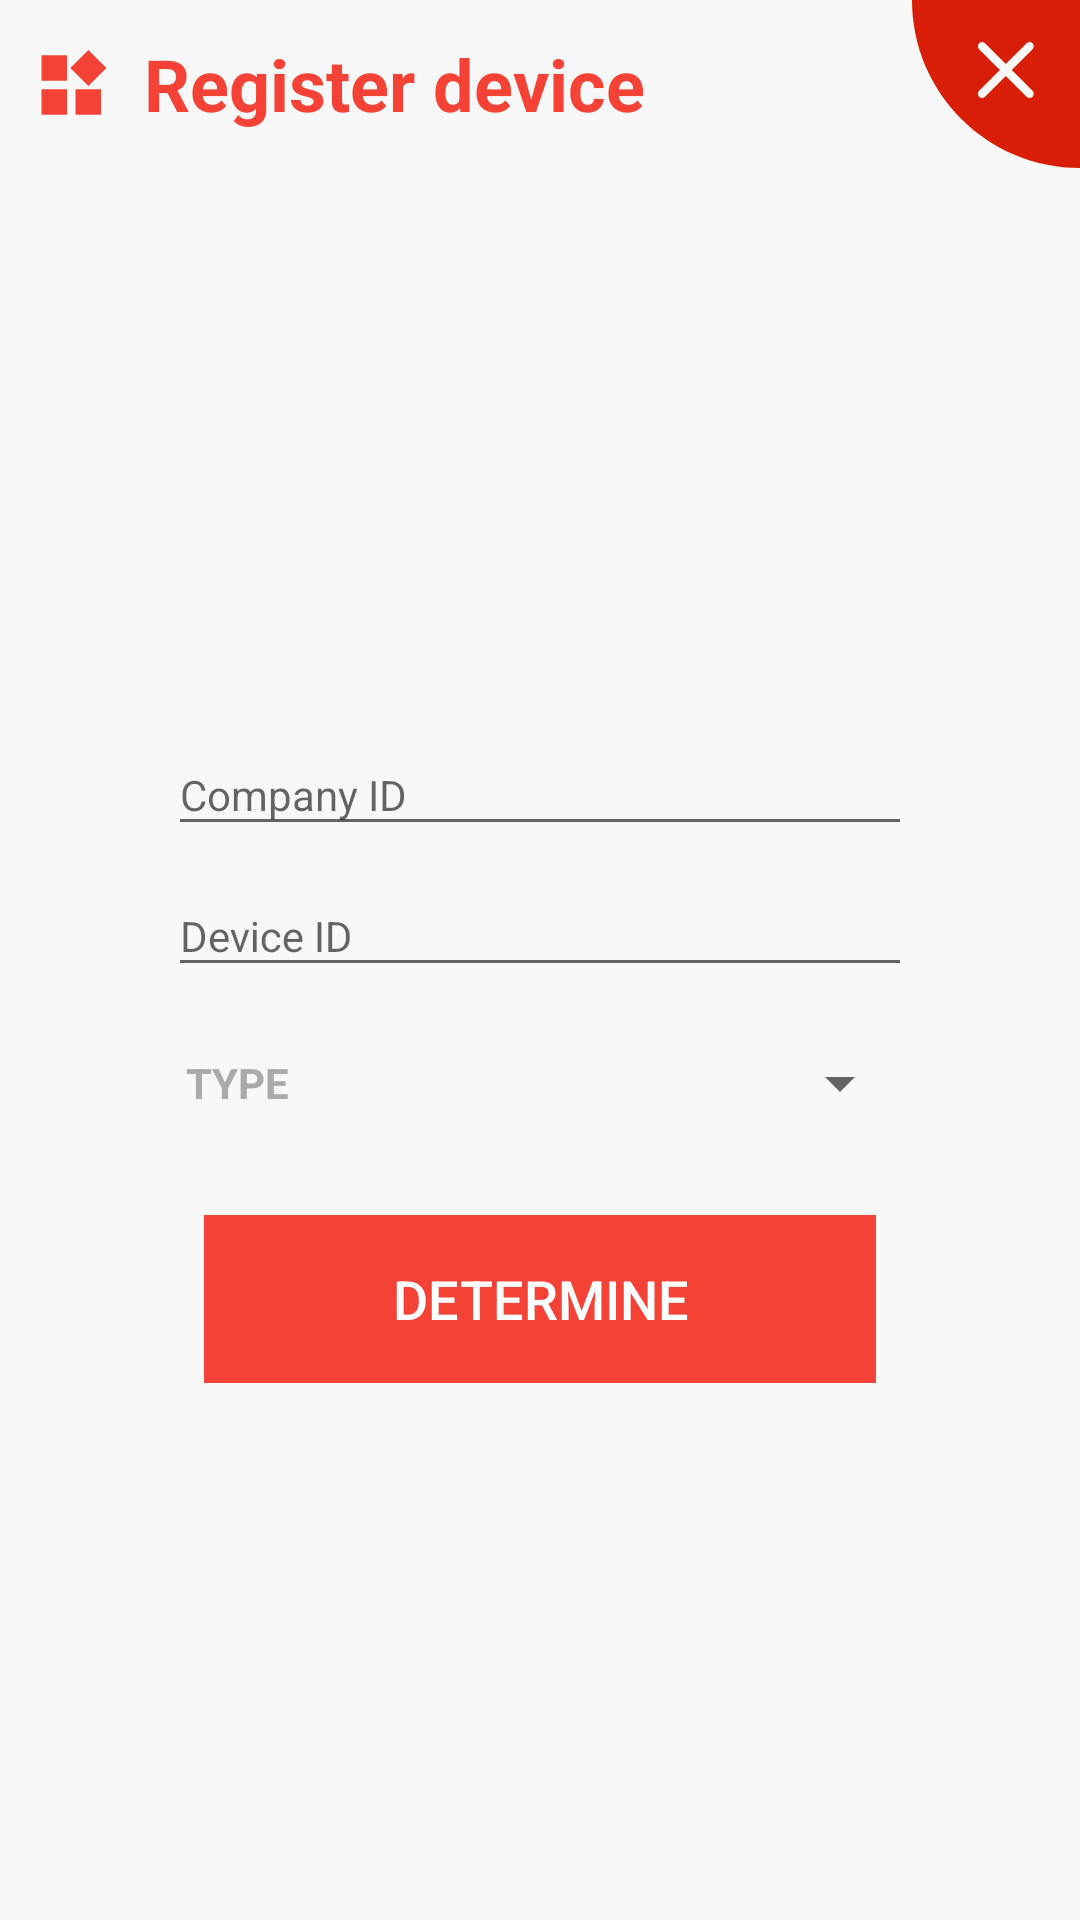

Where icons sit on this 1080px×1920px app screen, as (x1, y1, x2, y2):
close: (912, 0, 1080, 168)
